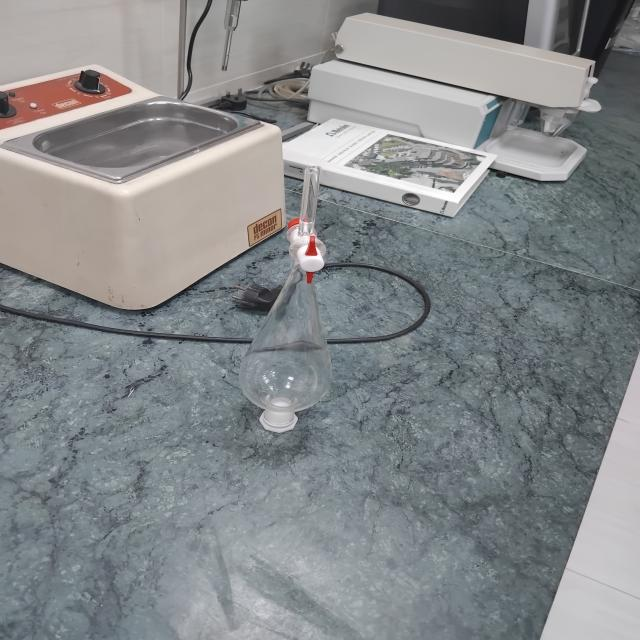Separating_Funnel: (213, 130, 387, 457)
